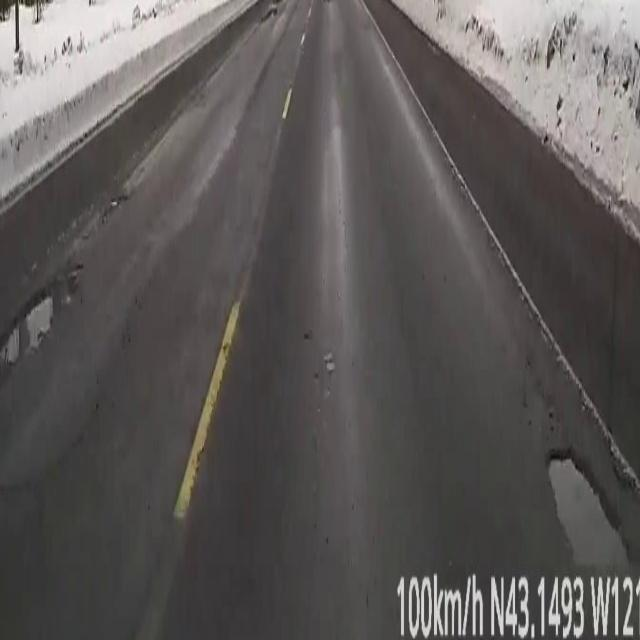pothole: (544, 447, 640, 589), (0, 287, 56, 365)
